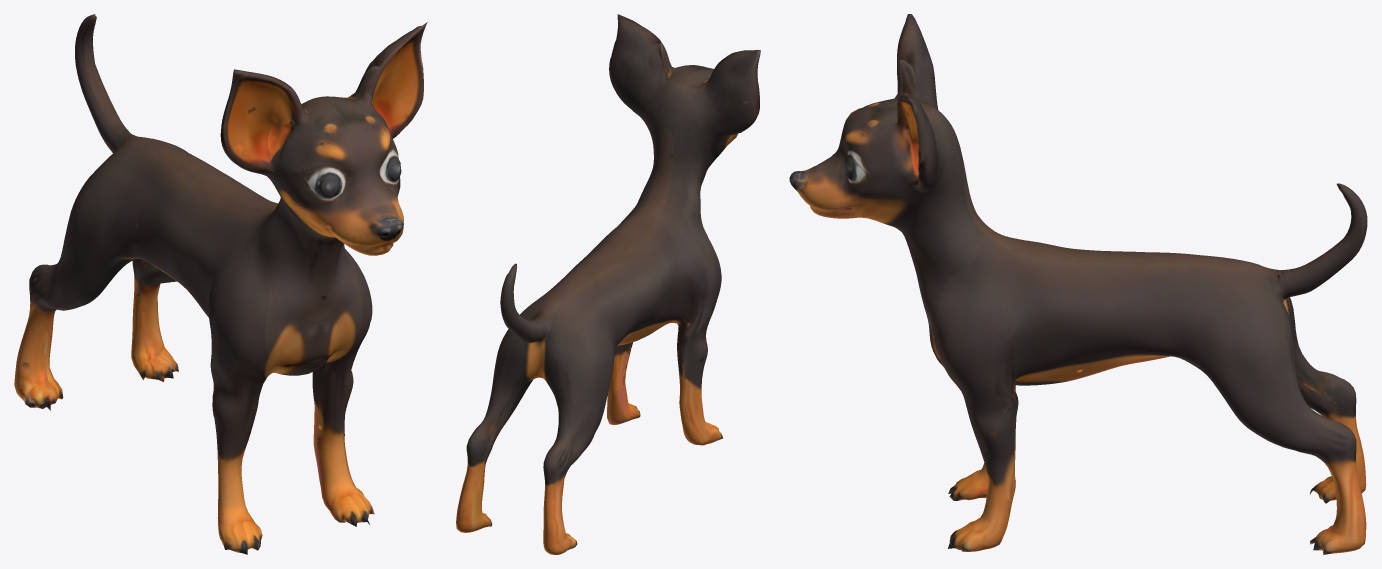
File: Perro.fbx
The picture shows the model from 3 angles, left to right: view 1: azimuth 30°, elevation 25°; view 2: azimuth 150°, elevation 25°; view 3: azimuth 270°, elevation 25°; orthographic projection. The views are drawn at different scales.
Parts seen in each view (by area): view 1: Mesh1; view 2: Mesh1; view 3: Mesh1.
Boxes of the visible parts, x1,y1,x2,y2 form: Mesh1: [14, 14, 427, 554]; Mesh1: [456, 14, 760, 554]; Mesh1: [789, 14, 1367, 554].
Bounding box in the file's own units: 74.02 × 179 × 200.
Materials: 1 (1 with a texture image).
